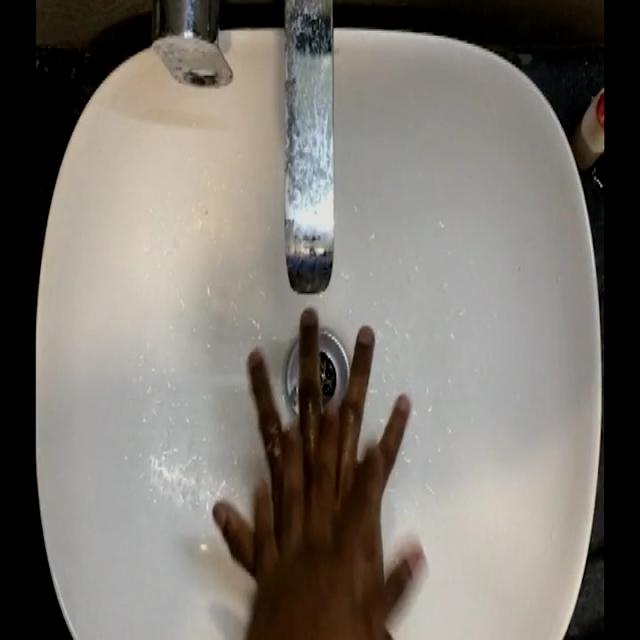step_2: (212, 298, 429, 617)
